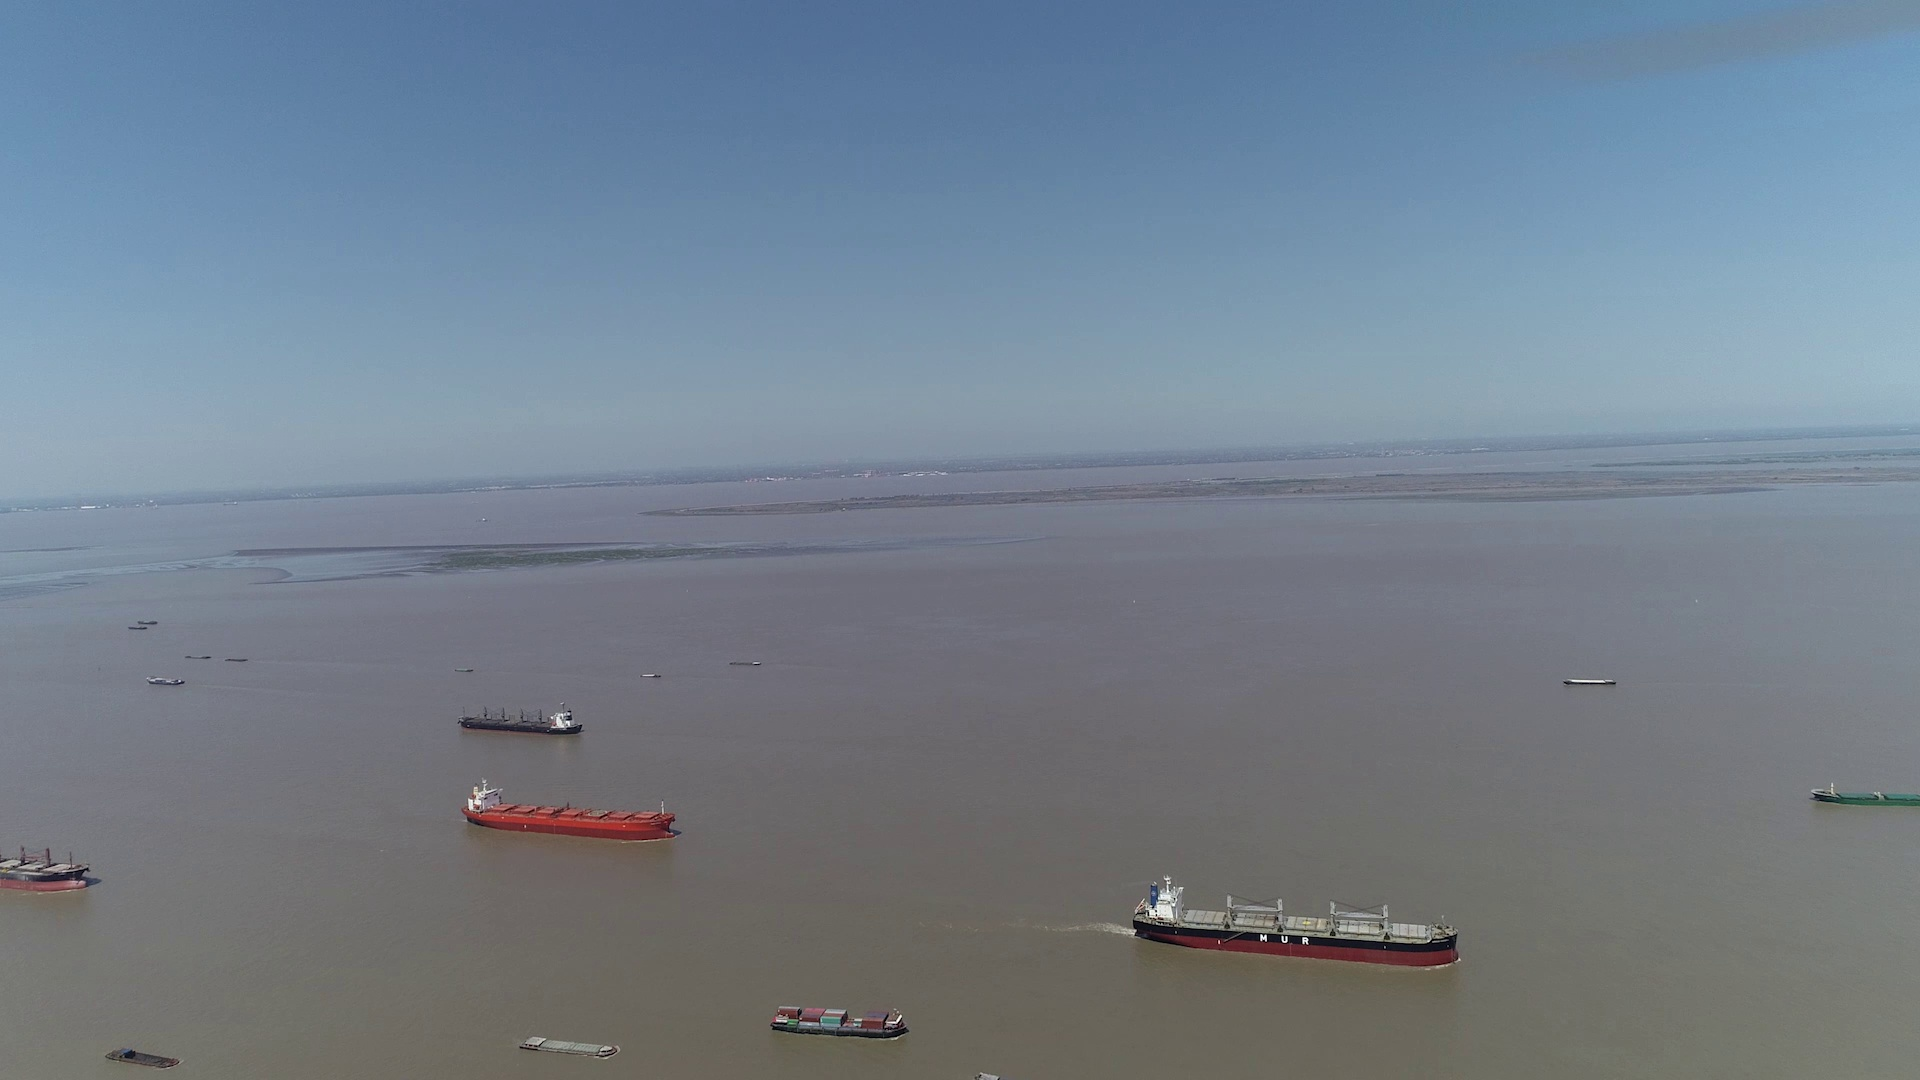ship: (1131, 876, 1458, 968), (463, 775, 678, 841), (1, 835, 94, 894), (771, 1004, 909, 1039), (460, 703, 583, 736), (1811, 783, 1919, 806), (520, 1035, 621, 1058), (103, 1047, 178, 1069), (1561, 676, 1618, 686), (145, 676, 185, 686)
